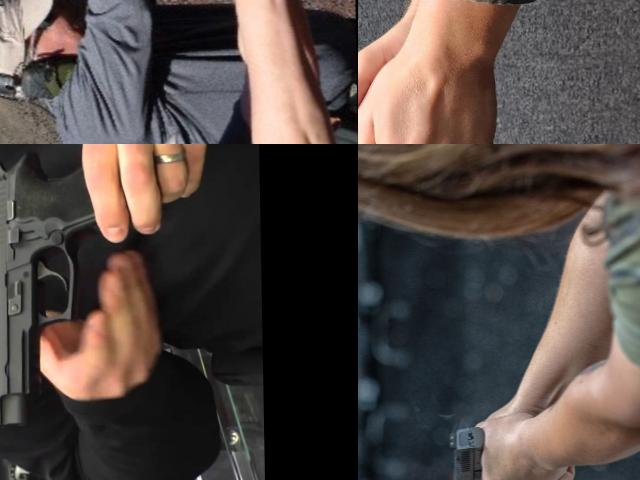handgun: (0, 144, 121, 432), (172, 0, 304, 55), (358, 46, 406, 144), (443, 421, 503, 480), (48, 0, 102, 25)
